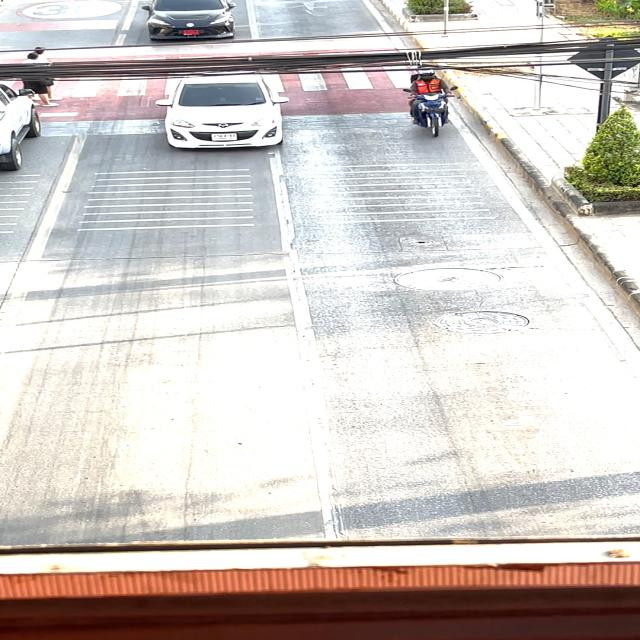car: (141, 78, 300, 158), (134, 0, 255, 45)
